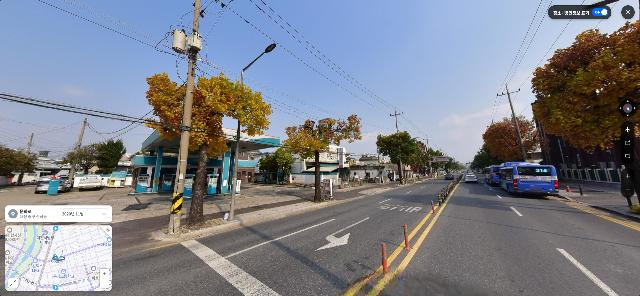ginkgo: (143, 72, 273, 230), (281, 115, 363, 203)
other: (530, 19, 640, 210), (482, 116, 541, 165), (375, 131, 427, 185)
